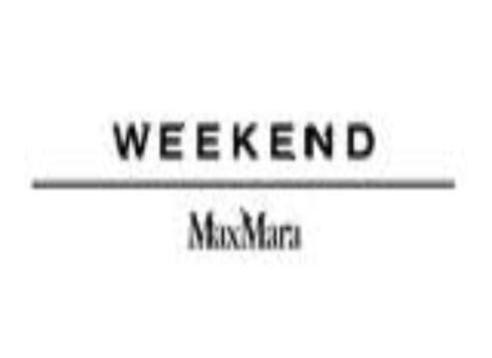MAX-MARA: (186, 210, 305, 251)
